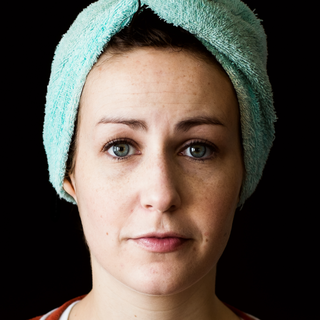eye: (93, 135, 146, 162), (173, 139, 223, 161)
